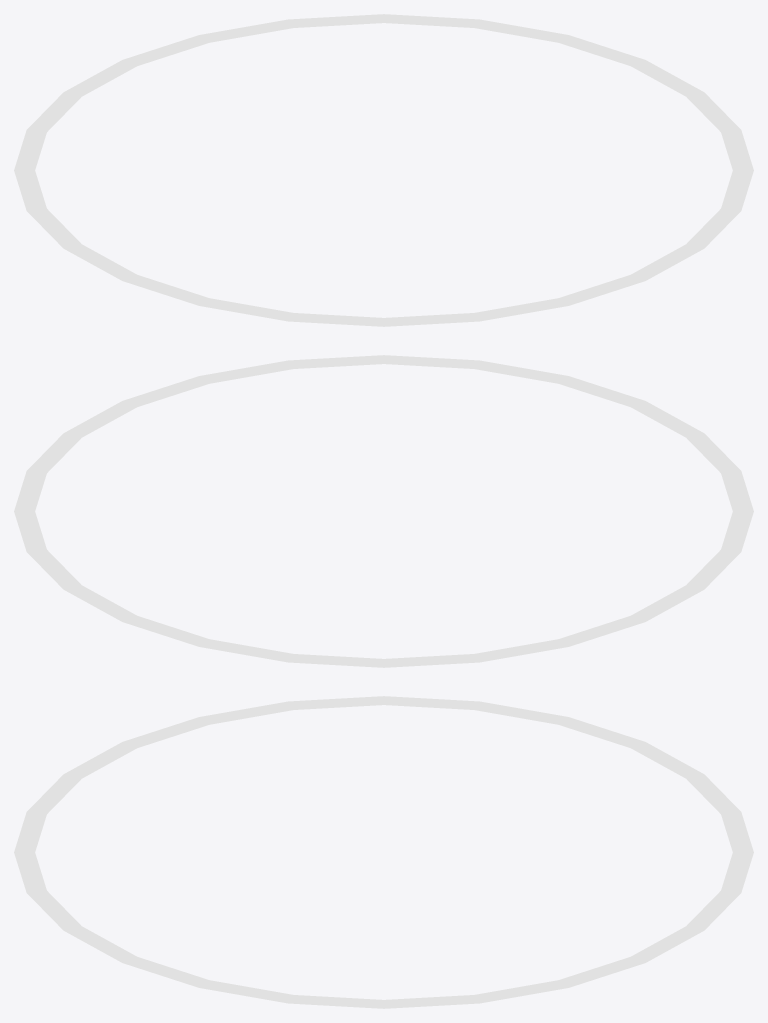
File: original-36.obj
The picture shows the model from 3 angles, top to bottom: view 1: azimuth 30°, elevation 25°; view 2: azimuth 150°, elevation 25°; view 3: azimuth 270°, elevation 25°; orthographic projection.
Parts seen in each view (by area): view 1: mesh71/mesh71-geometry/material_1/component_7#mesh71-geometry; view 2: mesh71/mesh71-geometry/material_1/component_7#mesh71-geometry; view 3: mesh71/mesh71-geometry/material_1/component_7#mesh71-geometry.
Part boxes in pixels (left/top/right/bottom): mesh71/mesh71-geometry/material_1/component_7#mesh71-geometry: left=14, top=14, right=753, bottom=326; mesh71/mesh71-geometry/material_1/component_7#mesh71-geometry: left=14, top=355, right=753, bottom=667; mesh71/mesh71-geometry/material_1/component_7#mesh71-geometry: left=14, top=696, right=753, bottom=1008.
Bounding box in the file's own units: 0.1469 × 0 × 0.1469.
